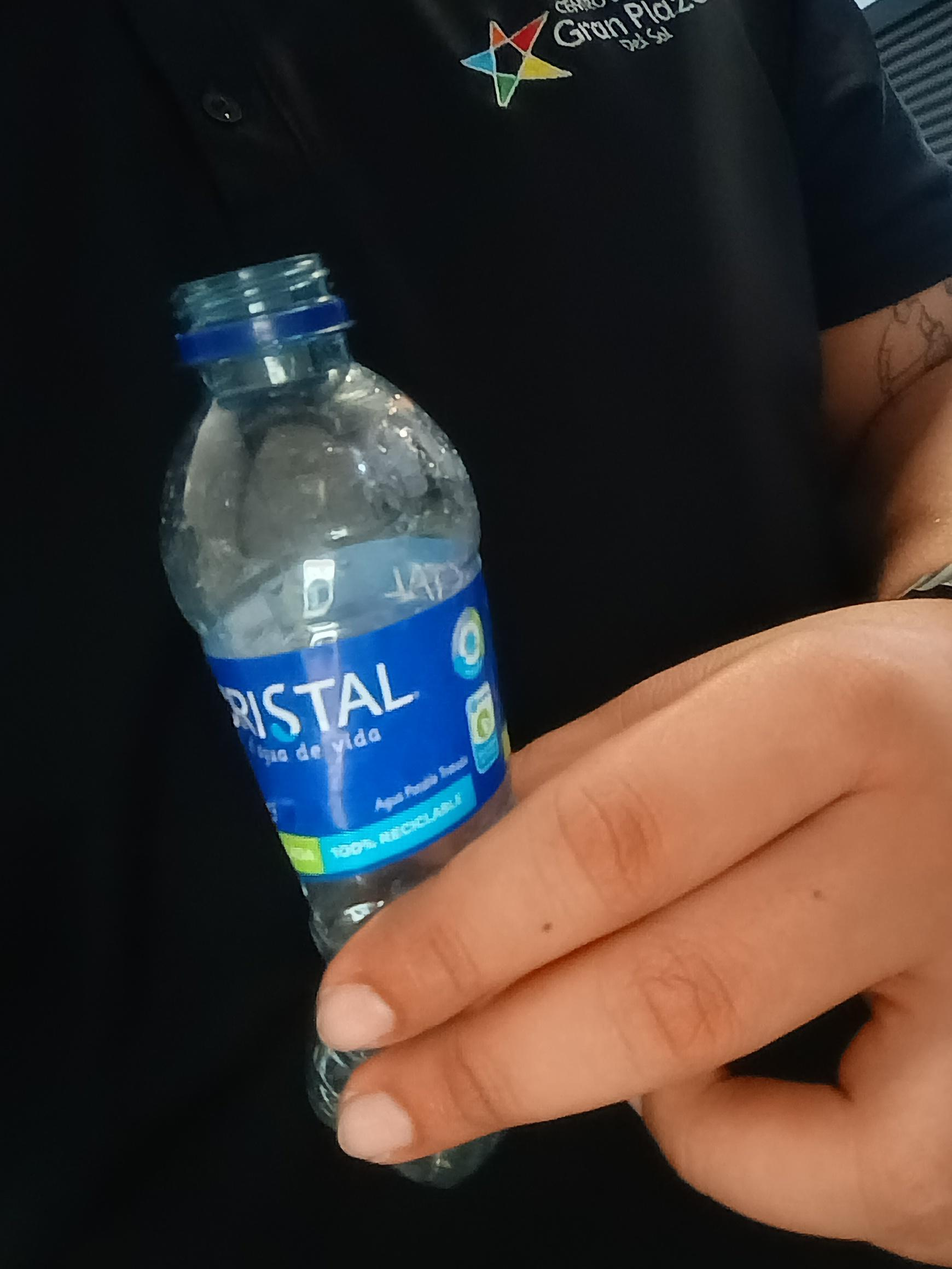Plastico: (154, 255, 510, 1184)
